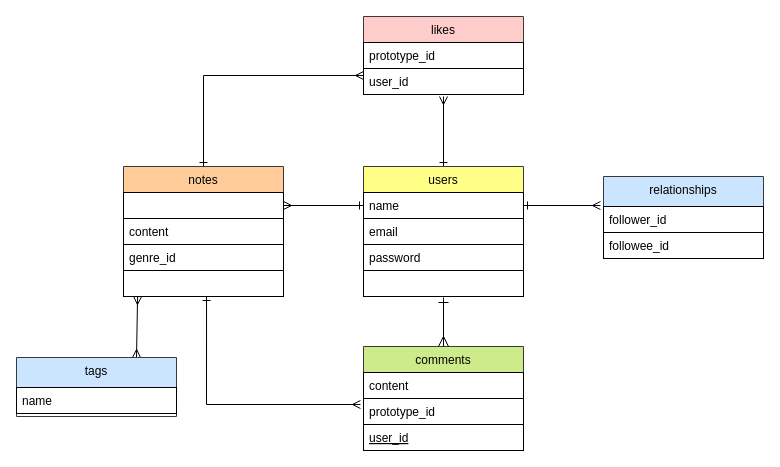
Some shapes in this 780 by 467 pixel diagram are drawn without their labels. Here are the shapes that lost their labels. From the top down, the centre of each, then its label:
At (x=203, y=205): "image".
At (x=203, y=283): "tag_name".
At (x=443, y=283): "profile".
